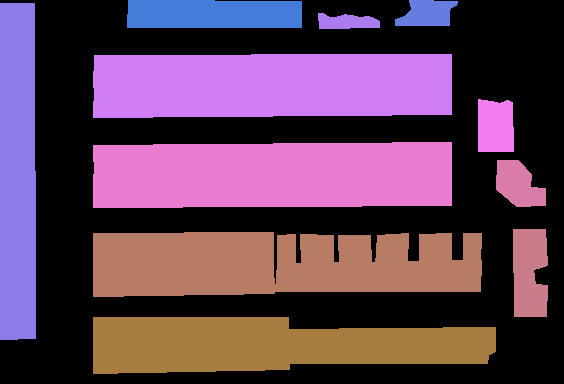parkingspot: (93, 142, 451, 177), (93, 172, 451, 207), (93, 83, 451, 117), (93, 54, 451, 87), (0, 3, 35, 339), (286, 327, 495, 363), (275, 260, 481, 291), (93, 262, 274, 296), (93, 232, 273, 266), (93, 342, 289, 373), (93, 317, 289, 346), (127, 0, 301, 27), (513, 229, 547, 316), (496, 160, 545, 206), (478, 99, 513, 151), (395, 0, 457, 25), (375, 233, 408, 265), (300, 234, 333, 265), (419, 233, 451, 264), (338, 235, 371, 265), (318, 13, 379, 28), (463, 233, 481, 264), (277, 234, 295, 265)
